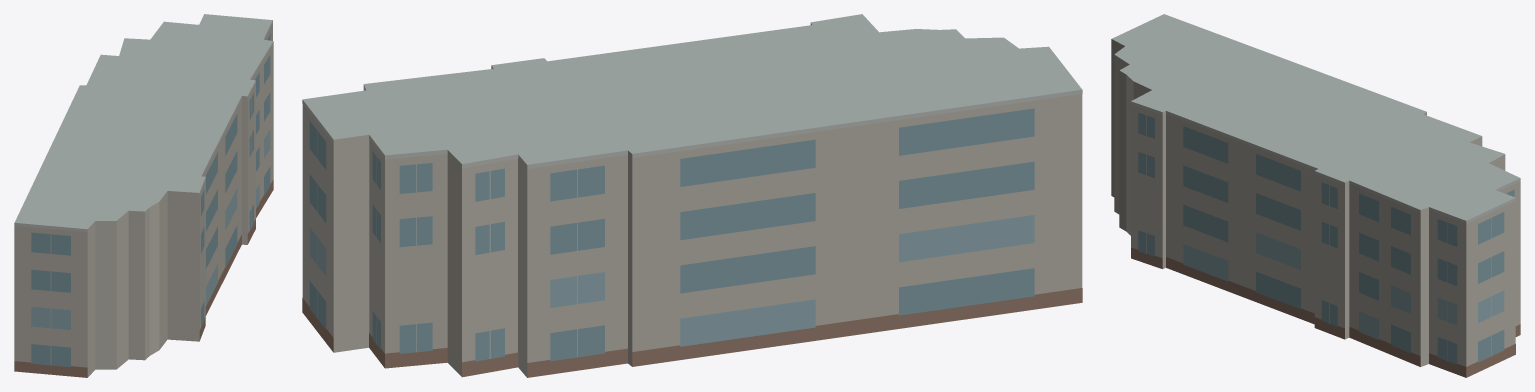
File: survey-upis-32569752.glb
3 renders of one model, left to right at view 1: azimuth 30°, elevation 25°; view 2: azimuth 150°, elevation 25°; view 3: azimuth 270°, elevation 25°, orthographic. The views are drawn at different scales.
Parts seen in each view (by area): view 1: survey-upis-32569752.tmp; view 2: survey-upis-32569752.tmp; view 3: survey-upis-32569752.tmp.
Part boxes in pixels (bbox=[...]): survey-upis-32569752.tmp: bbox=[14, 14, 273, 377]; survey-upis-32569752.tmp: bbox=[302, 14, 1082, 377]; survey-upis-32569752.tmp: bbox=[1111, 14, 1520, 377].
Bounding box in the file's own units: 34.47 × 12.2 × 28.81.
